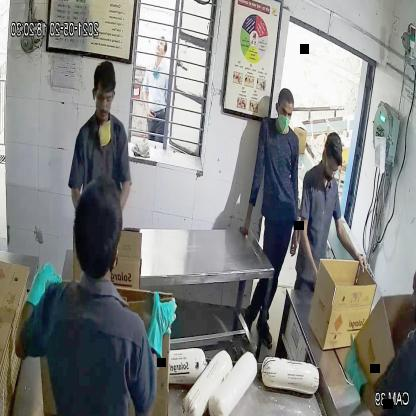goggles: (94, 90, 115, 105)
